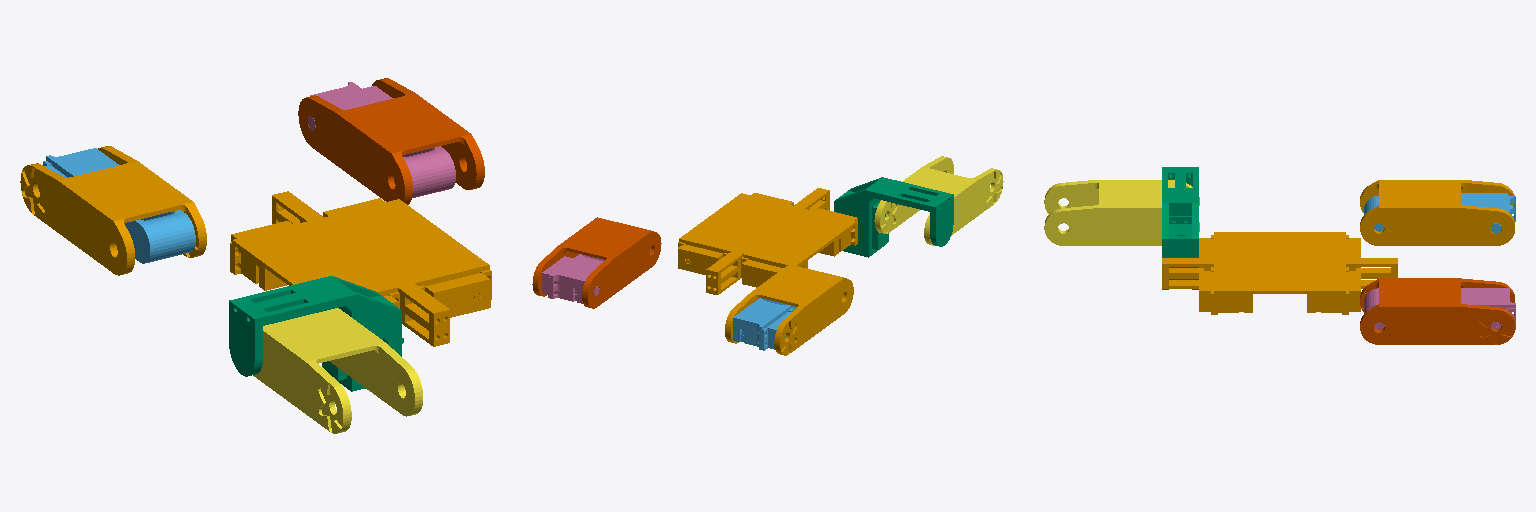
robot.urdf — quadru:
<?xml version="1.0" ?>
<robot name="quadru">

<material name="silver">
  <color rgba="0.700 0.700 0.700 1.000"/>
</material>

<material name="orange">
  <color rgba="1.000 0.647 0.000 1.000"/>
</material>

<material name="black">
  <color rgba="0.000 0.000 0.000 1.000"/>
</material>

<material name="red">
  <color rgba="1.000 0.000 0.000 1.000"/>
</material>

<material name="blue">
  <color rgba="0.000 0.000 1.000 1.000"/>
</material>

<material name="green">
  <color rgba="0.000 1.000 0.000 1.000"/>
</material>

<link name="base_link">
  <inertial>
    <origin xyz="-0.03309983762405305 0.028399999999999155 0.00224168443202275" rpy="0 0 0"/>
    <mass value="0.25033538405498423"/>
    <inertia ixx="0.0005969563697551504" iyy="0.0003006572635330181" izz="0.0008736394773121216" ixy="-2.6008166974234026e-14" iyz="-1.7211709488207383e-18" ixz="2.005288946034517e-08"/>
  </inertial>
  <visual>
    <origin xyz="0 0 0" rpy="0 0 0"/>
    <geometry>
      <mesh filename="meshes/base_link.stl" scale="0.001 0.001 0.001"/>
    </geometry>
    <material name="silver"/>
    <material/>
  </visual>
  <collision>
    <origin xyz="0 0 0" rpy="0 0 0"/>
    <geometry>
      <mesh filename="meshes/base_link.stl" scale="0.001 0.001 0.001"/>
    </geometry>
  </collision>
</link>

<link name="fl_shoulder1">
  <inertial>
    <origin xyz="0.02038476147009273 -0.01614910531145121 0.007593460755879494" rpy="0 0 0"/>
    <mass value="0.08997986177136631"/>
    <inertia ixx="3.8315761135564327e-05" iyy="0.00011132815270649087" izz="8.856025914479303e-05" ixy="-2.735120460415426e-07" iyz="-1.0188214422829513e-07" ixz="-2.3542560848743403e-05"/>
  </inertial>
  <visual>
    <origin xyz="-0.0105 0.0406 1e-06" rpy="0 0 0"/>
    <geometry>
      <mesh filename="meshes/fl_shoulder1.stl" scale="0.001 0.001 0.001"/>
    </geometry>
    <material name="red"/>
    <material/>
  </visual>
  <collision>
    <origin xyz="-0.0105 0.0406 1e-06" rpy="0 0 0"/>
    <geometry>
      <mesh filename="meshes/fl_shoulder1.stl" scale="0.001 0.001 0.001"/>
    </geometry>
  </collision>
</link>

<link name="fl_upper1">
  <inertial>
    <origin xyz="0.02874213224775385 -0.04705657486243686 0.003941150192365954" rpy="0 0 0"/>
    <mass value="0.06768345771416033"/>
    <inertia ixx="8.3471278698269e-05" iyy="4.829786585998309e-05" izz="0.00011474259337516642" ixy="-2.467345610746431e-06" iyz="-2.7957197225755127e-06" ixz="-1.456135694693269e-08"/>
  </inertial>
  <visual>
    <origin xyz="-0.038201 0.0566 -0.010497" rpy="0 0 0"/>
    <geometry>
      <mesh filename="meshes/fl_upper1.stl" scale="0.001 0.001 0.001"/>
    </geometry>
    <material name="green"/>
    <material/>
  </visual>
  <collision>
    <origin xyz="-0.038201 0.0566 -0.010497" rpy="0 0 0"/>
    <geometry>
      <mesh filename="meshes/fl_upper1.stl" scale="0.001 0.001 0.001"/>
    </geometry>
  </collision>
</link>

<link name="fl_lower1">
  <inertial>
    <origin xyz="-0.025886007718800827 0.03867162068964147 0.000721706340641318" rpy="0 0 0"/>
    <mass value="0.08196109414977758"/>
    <inertia ixx="0.00013807875504800071" iyy="1.6992356631682698e-05" izz="0.0001478076856311454" ixy="7.7338121520212e-06" iyz="1.6899029346605836e-06" ixz="1.8885867080679995e-07"/>
  </inertial>
  <visual>
    <origin xyz="-0.089801 0.1566 -0.010493" rpy="0 0 0"/>
    <geometry>
      <mesh filename="meshes/fl_lower1.stl" scale="0.001 0.001 0.001"/>
    </geometry>
    <material name="blue"/>
    <material/>
  </visual>
  <collision>
    <origin xyz="-0.089801 0.1566 -0.010493" rpy="0 0 0"/>
    <geometry>
      <mesh filename="meshes/fl_lower1.stl" scale="0.001 0.001 0.001"/>
    </geometry>
  </collision>
</link>

<link name="bl_shoulder1">
  <inertial>
    <origin xyz="0.02038476147001647 0.01614910531145096 0.007593460755879429" rpy="0 0 0"/>
    <mass value="0.08997986177136663"/>
    <inertia ixx="3.831576113061592e-05" iyy="0.0001113281527090578" izz="8.85602591523104e-05" ixy="2.7351204604029577e-07" iyz="1.0188214422823414e-07" ixz="-2.3542560848795763e-05"/>
  </inertial>
  <visual>
    <origin xyz="-0.0105 -0.0974 1e-06" rpy="0 0 0"/>
    <geometry>
      <mesh filename="meshes/bl_shoulder1.stl" scale="0.001 0.001 0.001"/>
    </geometry>
    <material name="red"/>
    <material/>
  </visual>
  <collision>
    <origin xyz="-0.0105 -0.0974 1e-06" rpy="0 0 0"/>
    <geometry>
      <mesh filename="meshes/bl_shoulder1.stl" scale="0.001 0.001 0.001"/>
    </geometry>
  </collision>
</link>

<link name="bl_upper1">
  <inertial>
    <origin xyz="0.028742132246898977 0.047056574862436557 0.0039411501923660285" rpy="0 0 0"/>
    <mass value="0.0676834577141605"/>
    <inertia ixx="8.347127869827117e-05" iyy="4.829786585997675e-05" izz="0.00011474259337516252" ixy="2.4673456098951154e-06" iyz="2.795719722575418e-06" ixz="-1.4561357122017788e-08"/>
  </inertial>
  <visual>
    <origin xyz="-0.038201 -0.1134 -0.010497" rpy="0 0 0"/>
    <geometry>
      <mesh filename="meshes/bl_upper1.stl" scale="0.001 0.001 0.001"/>
    </geometry>
    <material name="green"/>
    <material/>
  </visual>
  <collision>
    <origin xyz="-0.038201 -0.1134 -0.010497" rpy="0 0 0"/>
    <geometry>
      <mesh filename="meshes/bl_upper1.stl" scale="0.001 0.001 0.001"/>
    </geometry>
  </collision>
</link>

<link name="bl_lower1">
  <inertial>
    <origin xyz="-0.025886008980240238 -0.038671625747005944 0.0007217062814401584" rpy="0 0 0"/>
    <mass value="0.08196110090858688"/>
    <inertia ixx="0.00013807878114503519" iyy="1.6992358552698778e-05" izz="0.00014780771296968916" ixy="-7.733818492697449e-06" iyz="-1.6899032322383826e-06" ixz="1.8885859658792996e-07"/>
  </inertial>
  <visual>
    <origin xyz="-0.089801 -0.2134 -0.010493" rpy="0 0 0"/>
    <geometry>
      <mesh filename="meshes/bl_lower1.stl" scale="0.001 0.001 0.001"/>
    </geometry>
    <material name="blue"/>
    <material/>
  </visual>
  <collision>
    <origin xyz="-0.089801 -0.2134 -0.010493" rpy="0 0 0"/>
    <geometry>
      <mesh filename="meshes/bl_lower1.stl" scale="0.001 0.001 0.001"/>
    </geometry>
  </collision>
</link>

<link name="br_shoulder1">
  <inertial>
    <origin xyz="-0.020383660428958478 0.016149105311450973 0.007595735398294116" rpy="0 0 0"/>
    <mass value="0.08997986177136666"/>
    <inertia ixx="3.83225872710195e-05" iyy="0.00011132815270905824" izz="8.855343301190834e-05" ixy="-2.734972751410568e-07" iyz="1.0192178928894664e-07" ixz="2.3549842902258246e-05"/>
  </inertial>
  <visual>
    <origin xyz="0.0767 -0.0974 -6e-06" rpy="0 0 0"/>
    <geometry>
      <mesh filename="meshes/br_shoulder1.stl" scale="0.001 0.001 0.001"/>
    </geometry>
    <material name="red"/>
    <material/>
  </visual>
  <collision>
    <origin xyz="0.0767 -0.0974 -6e-06" rpy="0 0 0"/>
    <geometry>
      <mesh filename="meshes/br_shoulder1.stl" scale="0.001 0.001 0.001"/>
    </geometry>
  </collision>
</link>

<link name="br_upper1">
  <inertial>
    <origin xyz="-0.028742038524303334 0.047056574856869426 0.003944651495702471" rpy="0 0 0"/>
    <mass value="0.0676834577298832"/>
    <inertia ixx="8.347128358889076e-05" iyy="4.82978658668011e-05" izz="0.00011474258851024632" ixy="-2.466940328708792e-06" iyz="2.7960773380339855e-06" ixz="1.909419984673583e-08"/>
  </inertial>
  <visual>
    <origin xyz="0.104399 -0.1134 -0.010508" rpy="0 0 0"/>
    <geometry>
      <mesh filename="meshes/br_upper1.stl" scale="0.001 0.001 0.001"/>
    </geometry>
    <material name="green"/>
    <material/>
  </visual>
  <collision>
    <origin xyz="0.104399 -0.1134 -0.010508" rpy="0 0 0"/>
    <geometry>
      <mesh filename="meshes/br_upper1.stl" scale="0.001 0.001 0.001"/>
    </geometry>
  </collision>
</link>

<link name="br_lower1">
  <inertial>
    <origin xyz="0.025885634164955262 -0.03867162072338243 0.0007177687503543036" rpy="0 0 0"/>
    <mass value="0.0819610940704458"/>
    <inertia ixx="0.00013807870051668744" iyy="1.699235661872865e-05" izz="0.00014780774018649436" ixy="7.733567127382818e-06" iyz="-1.6910239787792838e-06" ixz="-1.8744842955689147e-07"/>
  </inertial>
  <visual>
    <origin xyz="0.155999 -0.2134 -0.010511" rpy="0 0 0"/>
    <geometry>
      <mesh filename="meshes/br_lower1.stl" scale="0.001 0.001 0.001"/>
    </geometry>
    <material name="blue"/>
    <material/>
  </visual>
  <collision>
    <origin xyz="0.155999 -0.2134 -0.010511" rpy="0 0 0"/>
    <geometry>
      <mesh filename="meshes/br_lower1.stl" scale="0.001 0.001 0.001"/>
    </geometry>
  </collision>
</link>

<link name="fr_shoulder1">
  <inertial>
    <origin xyz="-0.020383660429034736 -0.016149105311451188 0.007595735398294163" rpy="0 0 0"/>
    <mass value="0.08997986177136641"/>
    <inertia ixx="3.8322587275967524e-05" iyy="0.00011132815270649085" izz="8.855343300438983e-05" ixy="2.7349727514289993e-07" iyz="-1.0192178928889243e-07" ixz="2.3549842902204605e-05"/>
  </inertial>
  <visual>
    <origin xyz="0.0767 0.0406 -6e-06" rpy="0 0 0"/>
    <geometry>
      <mesh filename="meshes/fr_shoulder1.stl" scale="0.001 0.001 0.001"/>
    </geometry>
    <material name="red"/>
    <material/>
  </visual>
  <collision>
    <origin xyz="0.0767 0.0406 -6e-06" rpy="0 0 0"/>
    <geometry>
      <mesh filename="meshes/fr_shoulder1.stl" scale="0.001 0.001 0.001"/>
    </geometry>
  </collision>
</link>

<link name="fr_upper1">
  <inertial>
    <origin xyz="-0.02874203852344863 -0.047056574856869635 0.003944651495702398" rpy="0 0 0"/>
    <mass value="0.06768345772988303"/>
    <inertia ixx="8.347128358889076e-05" iyy="4.8297865866795244e-05" izz="0.00011474258851023982" ixy="2.466940327858669e-06" iyz="-2.796077338033823e-06" ixz="1.909420002172606e-08"/>
  </inertial>
  <visual>
    <origin xyz="0.104399 0.0566 -0.010508" rpy="0 0 0"/>
    <geometry>
      <mesh filename="meshes/fr_upper1.stl" scale="0.001 0.001 0.001"/>
    </geometry>
    <material name="green"/>
    <material/>
  </visual>
  <collision>
    <origin xyz="0.104399 0.0566 -0.010508" rpy="0 0 0"/>
    <geometry>
      <mesh filename="meshes/fr_upper1.stl" scale="0.001 0.001 0.001"/>
    </geometry>
  </collision>
</link>

<link name="fr_lower1">
  <inertial>
    <origin xyz="0.02588563542684455 0.038671625781964564 0.0007177686909025528" rpy="0 0 0"/>
    <mass value="0.08196110083089318"/>
    <inertia ixx="0.00013807872662013388" iyy="1.6992358540615562e-05" izz="0.00014780776753207893" ixy="-7.733573470322013e-06" iyz="1.6910242776153265e-06" ixz="-1.8744835500579483e-07"/>
  </inertial>
  <visual>
    <origin xyz="0.155999 0.1566 -0.010511" rpy="0 0 0"/>
    <geometry>
      <mesh filename="meshes/fr_lower1.stl" scale="0.001 0.001 0.001"/>
    </geometry>
    <material name="blue"/>
    <material/>
  </visual>
  <collision>
    <origin xyz="0.155999 0.1566 -0.010511" rpy="0 0 0"/>
    <geometry>
      <mesh filename="meshes/fr_lower1.stl" scale="0.001 0.001 0.001"/>
    </geometry>
  </collision>
</link>

<joint name="fl1" type="continuous">
  <origin xyz="0.0105 -0.0406 -1e-06" rpy="0 0 0"/>
  <parent link="base_link"/>
  <child link="fl_shoulder1"/>
  <axis xyz="-0.0 -1.0 -0.0"/>
</joint>
<transmission name="fl1_tran">
  <type>transmission_interface/SimpleTransmission</type>
  <joint name="fl1">
    <hardwareInterface>PositionJointInterface</hardwareInterface>
  </joint>
  <actuator name="fl1_actr">
    <hardwareInterface>PositionJointInterface</hardwareInterface>
    <mechanicalReduction>1</mechanicalReduction>
  </actuator>
</transmission>

<joint name="fl2" type="continuous">
  <origin xyz="0.027701 -0.016 0.010498" rpy="0 0 0"/>
  <parent link="fl_shoulder1"/>
  <child link="fl_upper1"/>
  <axis xyz="1.0 -0.0 -7.2e-05"/>
</joint>
<transmission name="fl2_tran">
  <type>transmission_interface/SimpleTransmission</type>
  <joint name="fl2">
    <hardwareInterface>PositionJointInterface</hardwareInterface>
  </joint>
  <actuator name="fl2_actr">
    <hardwareInterface>PositionJointInterface</hardwareInterface>
    <mechanicalReduction>1</mechanicalReduction>
  </actuator>
</transmission>

<joint name="fl3" type="continuous">
  <origin xyz="0.0516 -0.1 -4e-06" rpy="0 0 0"/>
  <parent link="fl_upper1"/>
  <child link="fl_lower1"/>
  <axis xyz="-1.0 0.0 7.2e-05"/>
</joint>
<transmission name="fl3_tran">
  <type>transmission_interface/SimpleTransmission</type>
  <joint name="fl3">
    <hardwareInterface>PositionJointInterface</hardwareInterface>
  </joint>
  <actuator name="fl3_actr">
    <hardwareInterface>PositionJointInterface</hardwareInterface>
    <mechanicalReduction>1</mechanicalReduction>
  </actuator>
</transmission>

<joint name="bl1" type="continuous">
  <origin xyz="0.0105 0.0974 -1e-06" rpy="0 0 0"/>
  <parent link="base_link"/>
  <child link="bl_shoulder1"/>
  <axis xyz="0.0 1.0 0.0"/>
</joint>
<transmission name="bl1_tran">
  <type>transmission_interface/SimpleTransmission</type>
  <joint name="bl1">
    <hardwareInterface>PositionJointInterface</hardwareInterface>
  </joint>
  <actuator name="bl1_actr">
    <hardwareInterface>PositionJointInterface</hardwareInterface>
    <mechanicalReduction>1</mechanicalReduction>
  </actuator>
</transmission>

<joint name="bl2" type="continuous">
  <origin xyz="0.027701 0.016 0.010498" rpy="0 0 0"/>
  <parent link="bl_shoulder1"/>
  <child link="bl_upper1"/>
  <axis xyz="1.0 -0.0 -7.2e-05"/>
</joint>
<transmission name="bl2_tran">
  <type>transmission_interface/SimpleTransmission</type>
  <joint name="bl2">
    <hardwareInterface>PositionJointInterface</hardwareInterface>
  </joint>
  <actuator name="bl2_actr">
    <hardwareInterface>PositionJointInterface</hardwareInterface>
    <mechanicalReduction>1</mechanicalReduction>
  </actuator>
</transmission>

<joint name="bl3" type="continuous">
  <origin xyz="0.0516 0.1 -4e-06" rpy="0 0 0"/>
  <parent link="bl_upper1"/>
  <child link="bl_lower1"/>
  <axis xyz="-1.0 -0.0 7.2e-05"/>
</joint>
<transmission name="bl3_tran">
  <type>transmission_interface/SimpleTransmission</type>
  <joint name="bl3">
    <hardwareInterface>PositionJointInterface</hardwareInterface>
  </joint>
  <actuator name="bl3_actr">
    <hardwareInterface>PositionJointInterface</hardwareInterface>
    <mechanicalReduction>1</mechanicalReduction>
  </actuator>
</transmission>

<joint name="br1" type="continuous">
  <origin xyz="-0.0767 0.0974 6e-06" rpy="0 0 0"/>
  <parent link="base_link"/>
  <child link="br_shoulder1"/>
  <axis xyz="0.0 1.0 0.0"/>
</joint>
<transmission name="br1_tran">
  <type>transmission_interface/SimpleTransmission</type>
  <joint name="br1">
    <hardwareInterface>PositionJointInterface</hardwareInterface>
  </joint>
  <actuator name="br1_actr">
    <hardwareInterface>PositionJointInterface</hardwareInterface>
    <mechanicalReduction>1</mechanicalReduction>
  </actuator>
</transmission>

<joint name="br2" type="continuous">
  <origin xyz="-0.027699 0.016 0.010502" rpy="0 0 0"/>
  <parent link="br_shoulder1"/>
  <child link="br_upper1"/>
  <axis xyz="-1.0 0.0 7.2e-05"/>
</joint>
<transmission name="br2_tran">
  <type>transmission_interface/SimpleTransmission</type>
  <joint name="br2">
    <hardwareInterface>PositionJointInterface</hardwareInterface>
  </joint>
  <actuator name="br2_actr">
    <hardwareInterface>PositionJointInterface</hardwareInterface>
    <mechanicalReduction>1</mechanicalReduction>
  </actuator>
</transmission>

<joint name="br3" type="continuous">
  <origin xyz="-0.0516 0.1 3e-06" rpy="0 0 0"/>
  <parent link="br_upper1"/>
  <child link="br_lower1"/>
  <axis xyz="1.0 -0.0 -7.2e-05"/>
</joint>
<transmission name="br3_tran">
  <type>transmission_interface/SimpleTransmission</type>
  <joint name="br3">
    <hardwareInterface>PositionJointInterface</hardwareInterface>
  </joint>
  <actuator name="br3_actr">
    <hardwareInterface>PositionJointInterface</hardwareInterface>
    <mechanicalReduction>1</mechanicalReduction>
  </actuator>
</transmission>

<joint name="fr1" type="continuous">
  <origin xyz="-0.0767 -0.0406 6e-06" rpy="0 0 0"/>
  <parent link="base_link"/>
  <child link="fr_shoulder1"/>
  <axis xyz="-0.0 -1.0 -0.0"/>
</joint>
<transmission name="fr1_tran">
  <type>transmission_interface/SimpleTransmission</type>
  <joint name="fr1">
    <hardwareInterface>PositionJointInterface</hardwareInterface>
  </joint>
  <actuator name="fr1_actr">
    <hardwareInterface>PositionJointInterface</hardwareInterface>
    <mechanicalReduction>1</mechanicalReduction>
  </actuator>
</transmission>

<joint name="fr2" type="continuous">
  <origin xyz="-0.027699 -0.016 0.010502" rpy="0 0 0"/>
  <parent link="fr_shoulder1"/>
  <child link="fr_upper1"/>
  <axis xyz="-1.0 0.0 7.2e-05"/>
</joint>
<transmission name="fr2_tran">
  <type>transmission_interface/SimpleTransmission</type>
  <joint name="fr2">
    <hardwareInterface>PositionJointInterface</hardwareInterface>
  </joint>
  <actuator name="fr2_actr">
    <hardwareInterface>PositionJointInterface</hardwareInterface>
    <mechanicalReduction>1</mechanicalReduction>
  </actuator>
</transmission>

<joint name="fr3" type="continuous">
  <origin xyz="-0.0516 -0.1 3e-06" rpy="0 0 0"/>
  <parent link="fr_upper1"/>
  <child link="fr_lower1"/>
  <axis xyz="1.0 0.0 -7.2e-05"/>
</joint>
<transmission name="fr3_tran">
  <type>transmission_interface/SimpleTransmission</type>
  <joint name="fr3">
    <hardwareInterface>PositionJointInterface</hardwareInterface>
  </joint>
  <actuator name="fr3_actr">
    <hardwareInterface>PositionJointInterface</hardwareInterface>
    <mechanicalReduction>1</mechanicalReduction>
  </actuator>
</transmission>

</robot>

--- Render facts (derived) ---
The picture shows the robot from 3 angles, left to right: view 1: azimuth 30°, elevation 25°; view 2: azimuth 150°, elevation 25°; view 3: azimuth 270°, elevation 25°; orthographic projection.
Robot: quadru — 13 links, 12 joints (12 continuous); root link base_link; default pose: all joints at 0.
Visible links, largest first — view 1: base_link, fr_upper1, bl_upper1, br_upper1, fr_shoulder1, br_lower1, bl_lower1; view 2: base_link, bl_upper1, br_upper1, fr_shoulder1, fr_upper1, br_lower1, bl_lower1; view 3: base_link, br_upper1, bl_upper1, fr_upper1, fr_shoulder1, bl_lower1, br_lower1.
Boxes of the visible links, x1=… form: base_link: x1=230, y1=191, x2=491, y2=346; fr_upper1: x1=253, y1=308, x2=422, y2=433; bl_upper1: x1=298, y1=78, x2=484, y2=204; br_upper1: x1=20, y1=146, x2=206, y2=275; fr_shoulder1: x1=229, y1=276, x2=403, y2=391; br_lower1: x1=38, y1=148, x2=195, y2=263; bl_lower1: x1=308, y1=82, x2=455, y2=197; base_link: x1=678, y1=188, x2=857, y2=294; bl_upper1: x1=532, y1=217, x2=661, y2=308; br_upper1: x1=725, y1=264, x2=853, y2=355; fr_shoulder1: x1=834, y1=177, x2=953, y2=257; fr_upper1: x1=874, y1=156, x2=1003, y2=245; br_lower1: x1=733, y1=298, x2=796, y2=350; bl_lower1: x1=542, y1=248, x2=650, y2=303; base_link: x1=1162, y1=232, x2=1397, y2=314; br_upper1: x1=1360, y1=180, x2=1514, y2=245; bl_upper1: x1=1360, y1=278, x2=1514, y2=344; fr_upper1: x1=1044, y1=180, x2=1199, y2=245; fr_shoulder1: x1=1162, y1=167, x2=1198, y2=289; bl_lower1: x1=1364, y1=288, x2=1515, y2=329; br_lower1: x1=1364, y1=193, x2=1515, y2=233.
Size in the robot's own frame: 0.2638 by 0.4031 by 0.0662 metres.
Meshes: 13 distinct files referenced, 7 mesh visuals loaded (7 binary STL); not drawn: 6 (reference not matched to a file when rendering).